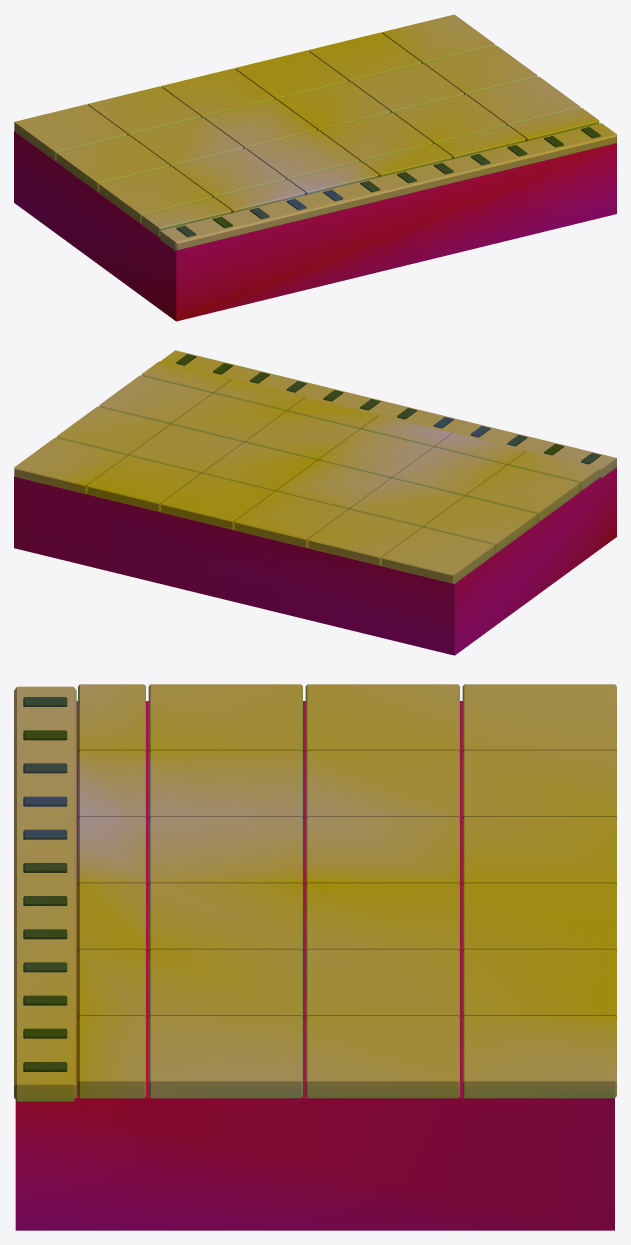
Rendered from GS_Apron_Hall_6m.fbx.
3 views of the same model, one above another, from view 1: azimuth 30°, elevation 25°; view 2: azimuth 150°, elevation 25°; view 3: azimuth 270°, elevation 25° (orthographic). The views are drawn at different scales.
Parts seen in each view (by area): view 1: GS_Apron_Hall_6m; view 2: GS_Apron_Hall_6m; view 3: GS_Apron_Hall_6m.
Boxes of the visible parts, bbox=[...] form: GS_Apron_Hall_6m: bbox=[14, 14, 616, 321]; GS_Apron_Hall_6m: bbox=[14, 350, 616, 655]; GS_Apron_Hall_6m: bbox=[14, 684, 616, 1230].
Bounding box in the file's own units: 6 × 1.05 × 3.84.
